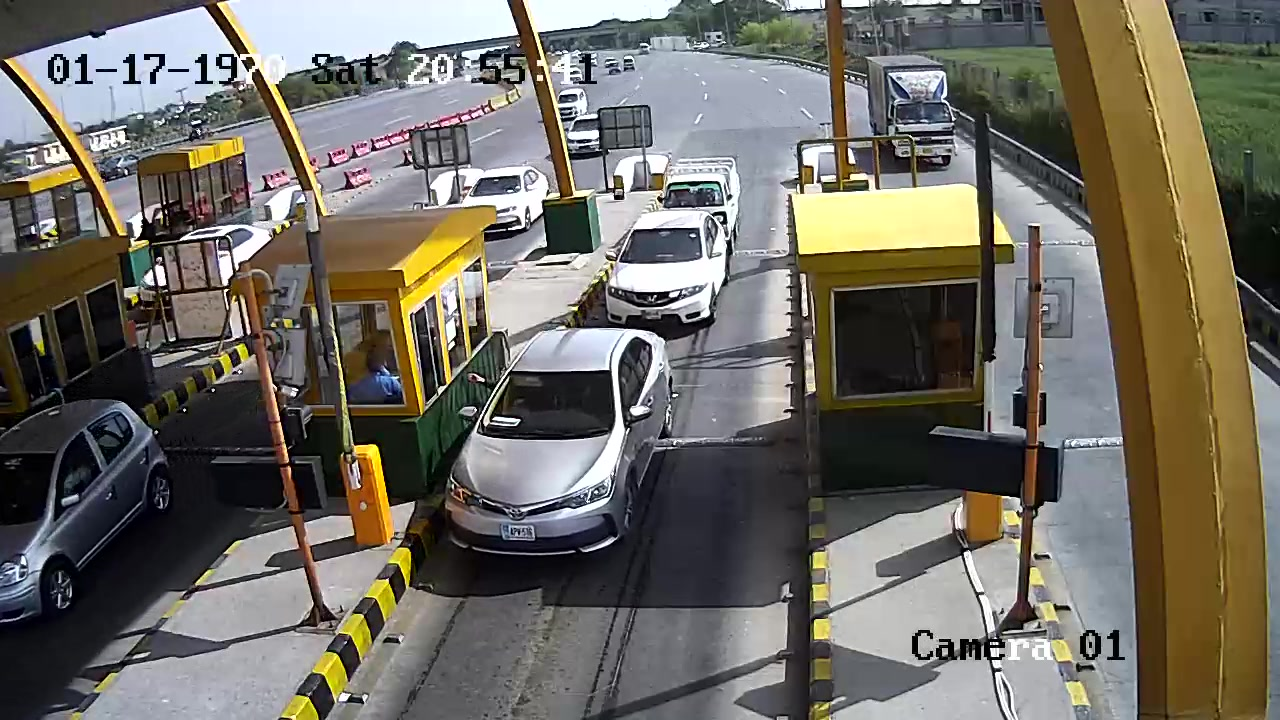F1: (437, 324, 677, 557)
